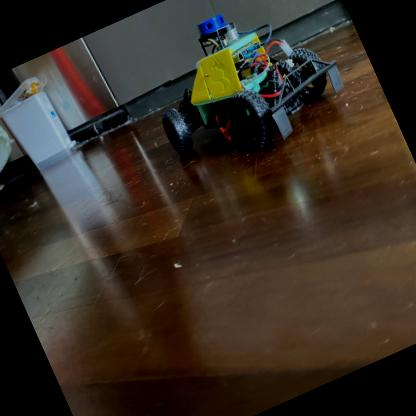mushr_car: (118, 0, 361, 190)
